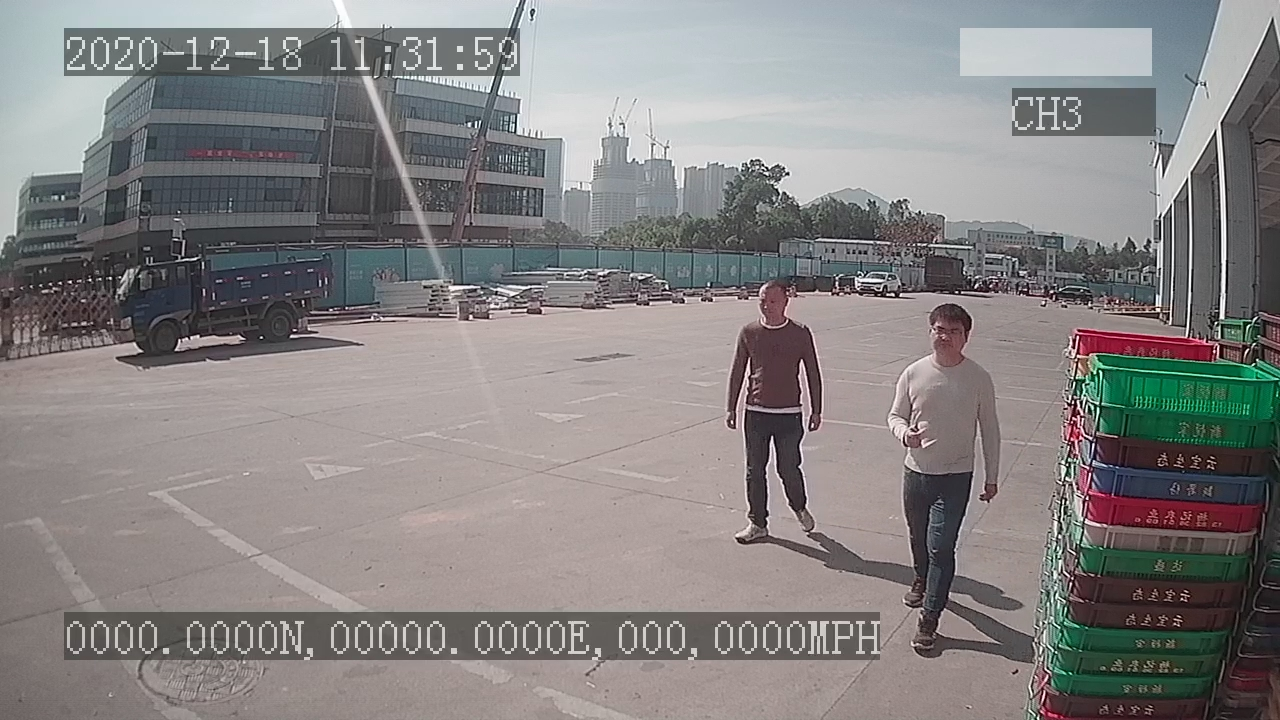person: (889, 301, 1001, 651), (719, 277, 822, 549)
